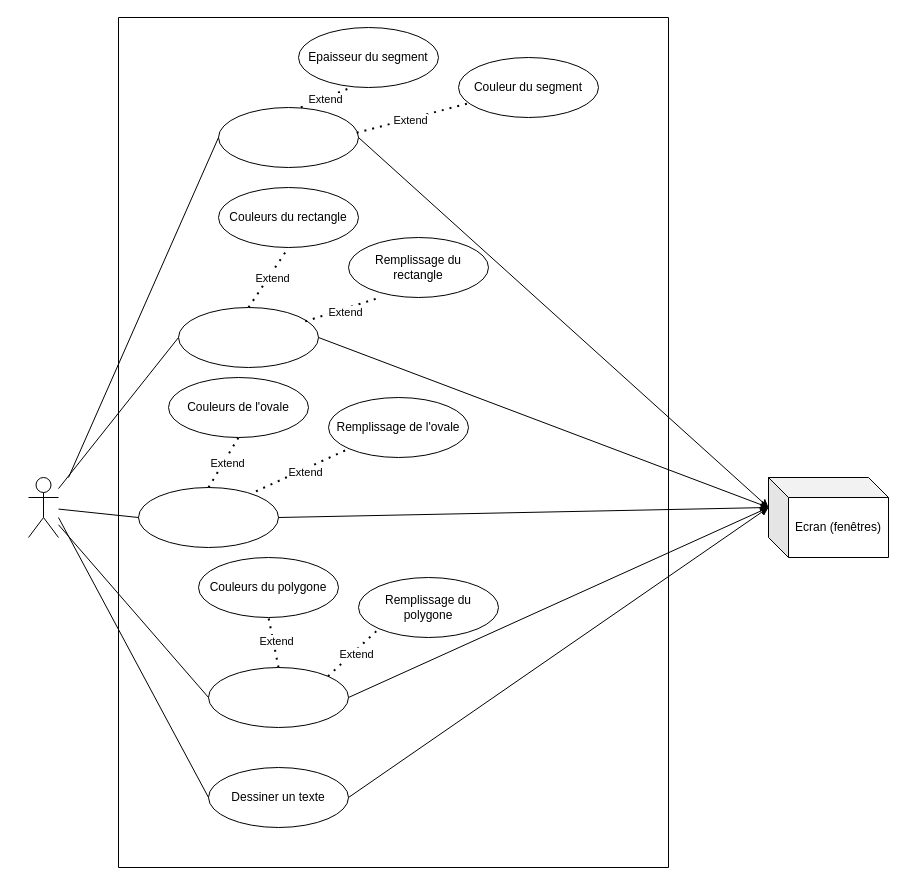
Some shapes in this 906 by 885 pixel diagram are drawn without their labels. The shapes that lost their labels are listed below. From the top down, each one's centre as x and y in pixels, then its label:
(x=288, y=137): Dessiner un segment
(x=248, y=337): Dessiner un rectangle
(x=43, y=507): Utilisateur
(x=208, y=517): Dessiner un ovale
(x=278, y=697): Dessiner un polygone
